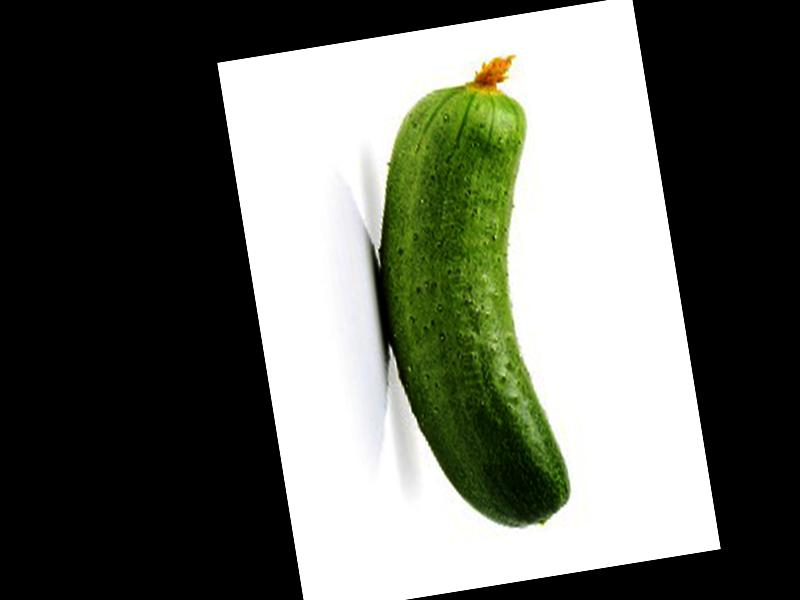Cucumber: (344, 50, 591, 545)
